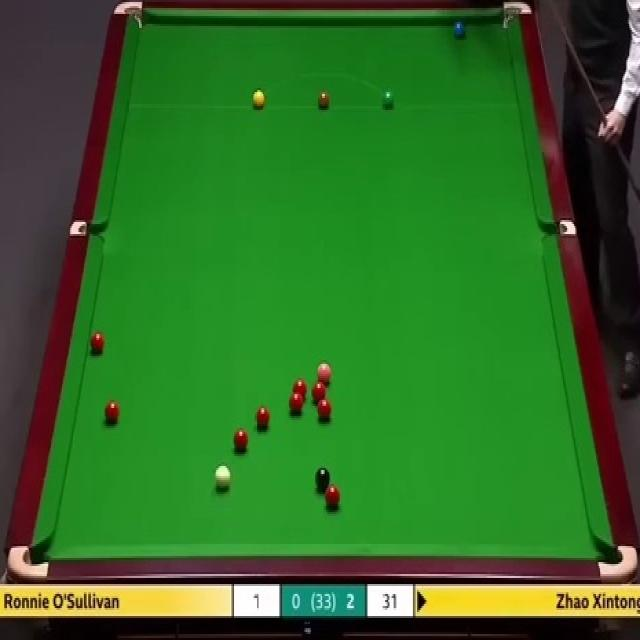pocket: (8, 544, 50, 582), (596, 542, 637, 580), (112, 0, 145, 32), (503, 0, 531, 31), (71, 220, 106, 238), (542, 220, 576, 235)
